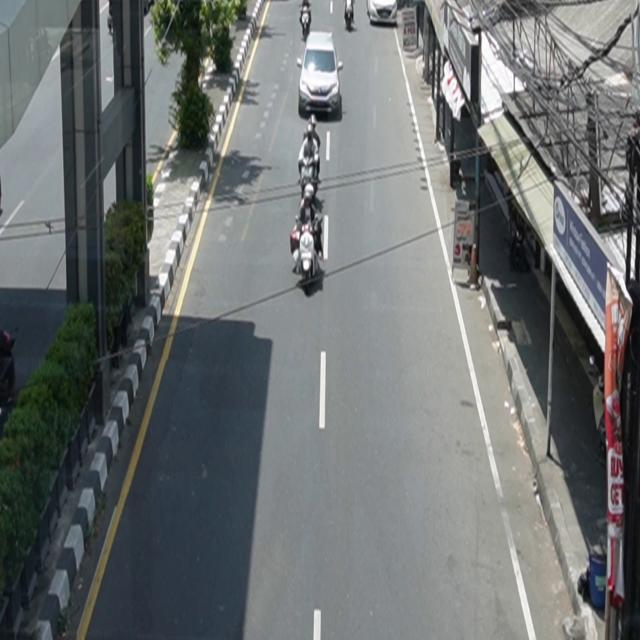car: (298, 31, 345, 117), (367, 1, 399, 26)
